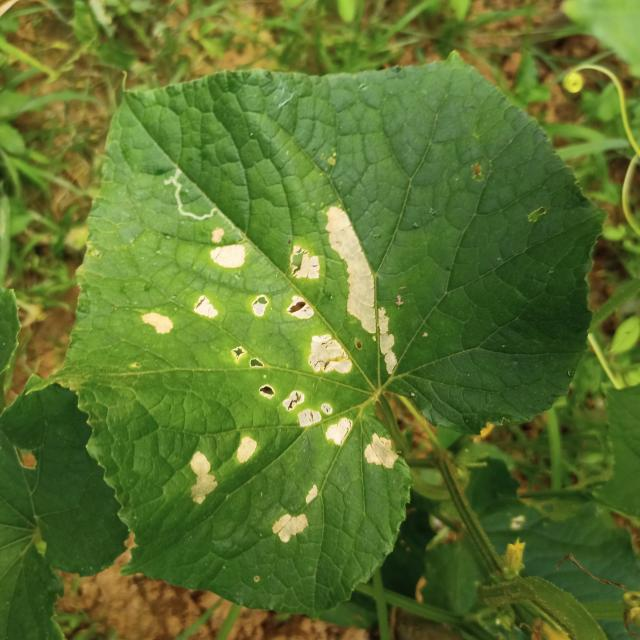disease_cucumber: (139, 208, 403, 474), (187, 434, 257, 508), (272, 482, 322, 544)
